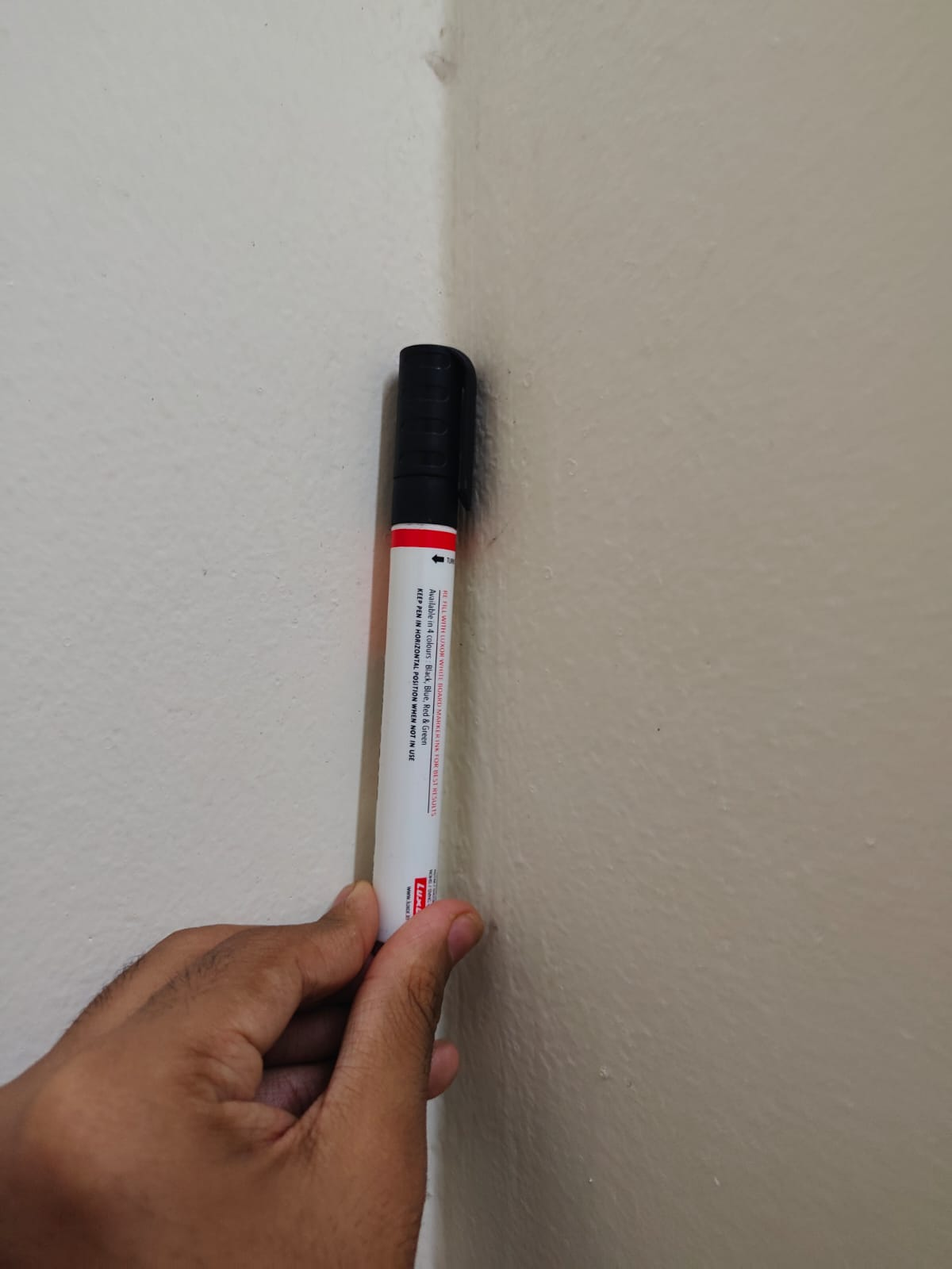case: (283, 312, 485, 947)
